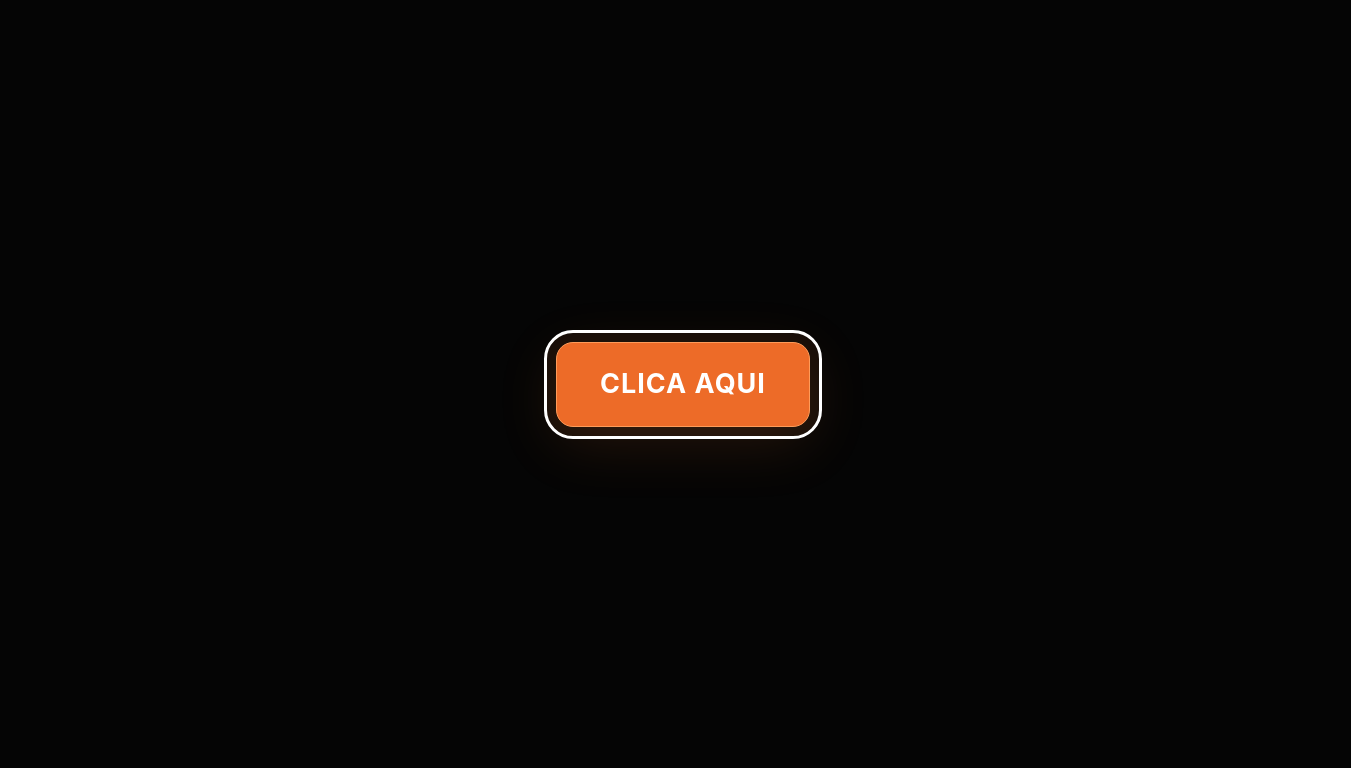
React landing page › starts with the VSL, then shows one CTA after ended, and opens the quiz only on click
Click the button "CLICA AQUI" at (683, 384), box x1=556 y1=342 x2=810 y2=426
(page scrolled)
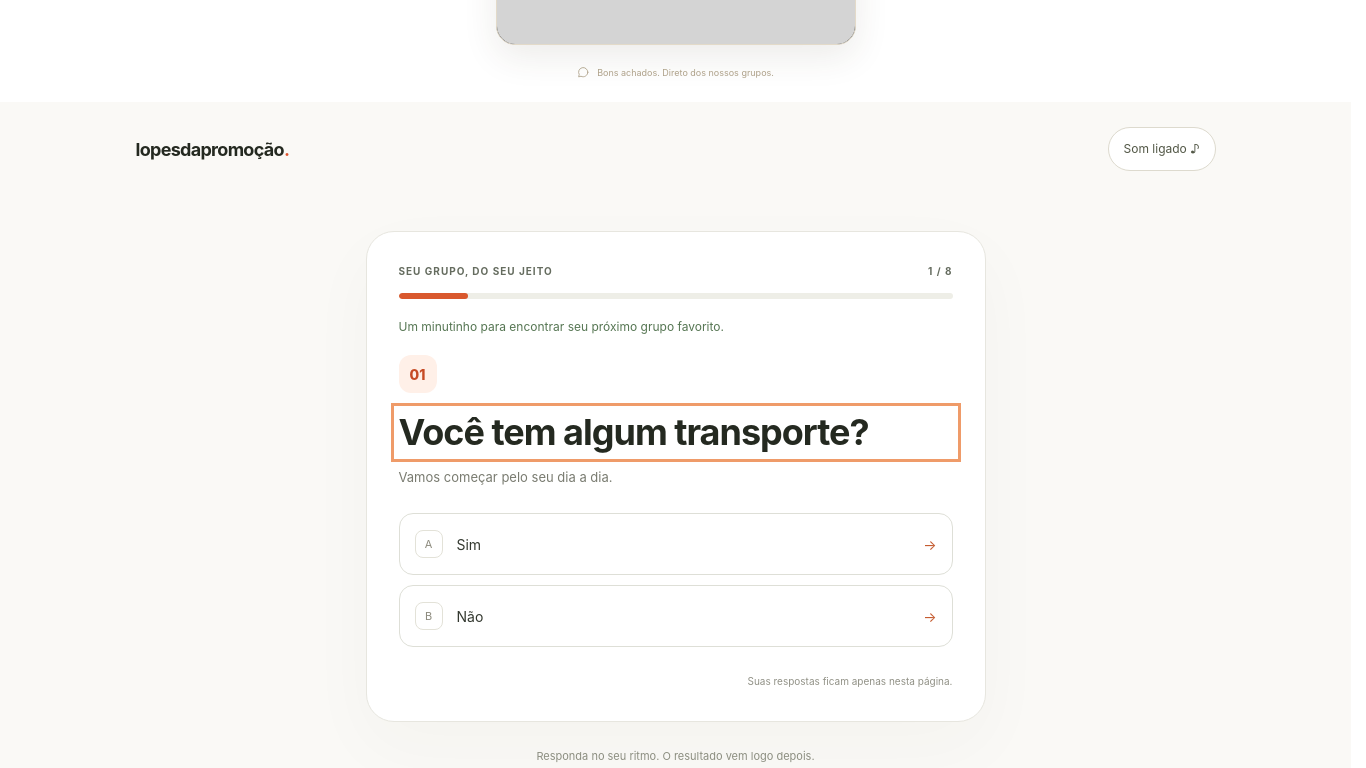
Check: the dialog is gone
Check: the element that starts with "SEU GRUPO, DO SEU JEITO" is shown, box x1=366 y1=231 x2=986 y2=722
